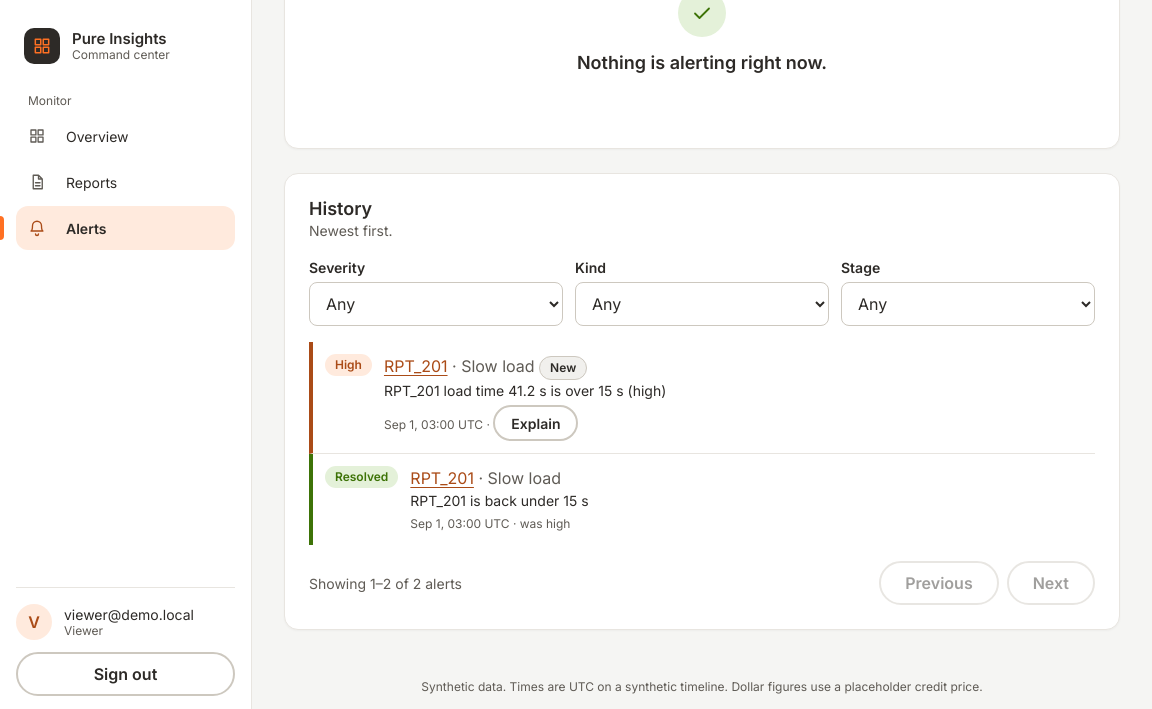
Test case: Explain this alert: the checked answer stands in, and decisions happen on the alert › buttons are for admins only, even if a response ever carried review data (defence in depth)
(page scrolled)
Click the button with aria-label "Explain alert 1": (536, 423) left=493, top=405, right=578, bottom=441
(page scrolled)
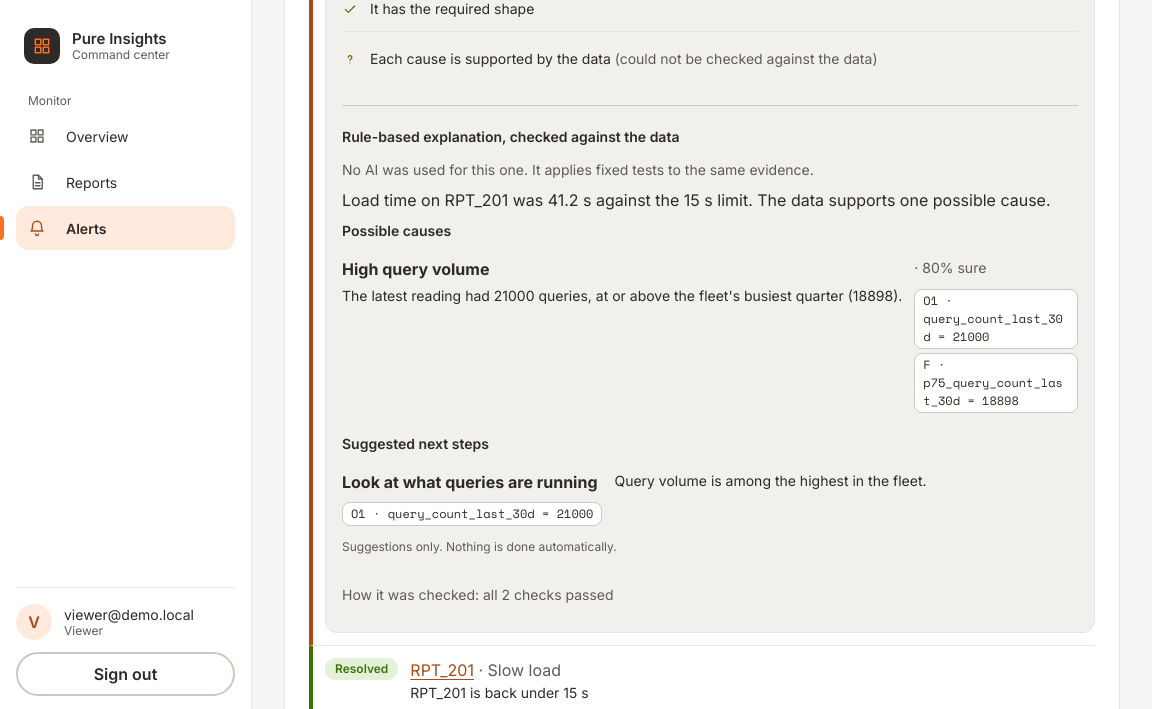
Expected: the element "Rule-based explanation" is shown, left=342, top=105, right=1078, bottom=616
